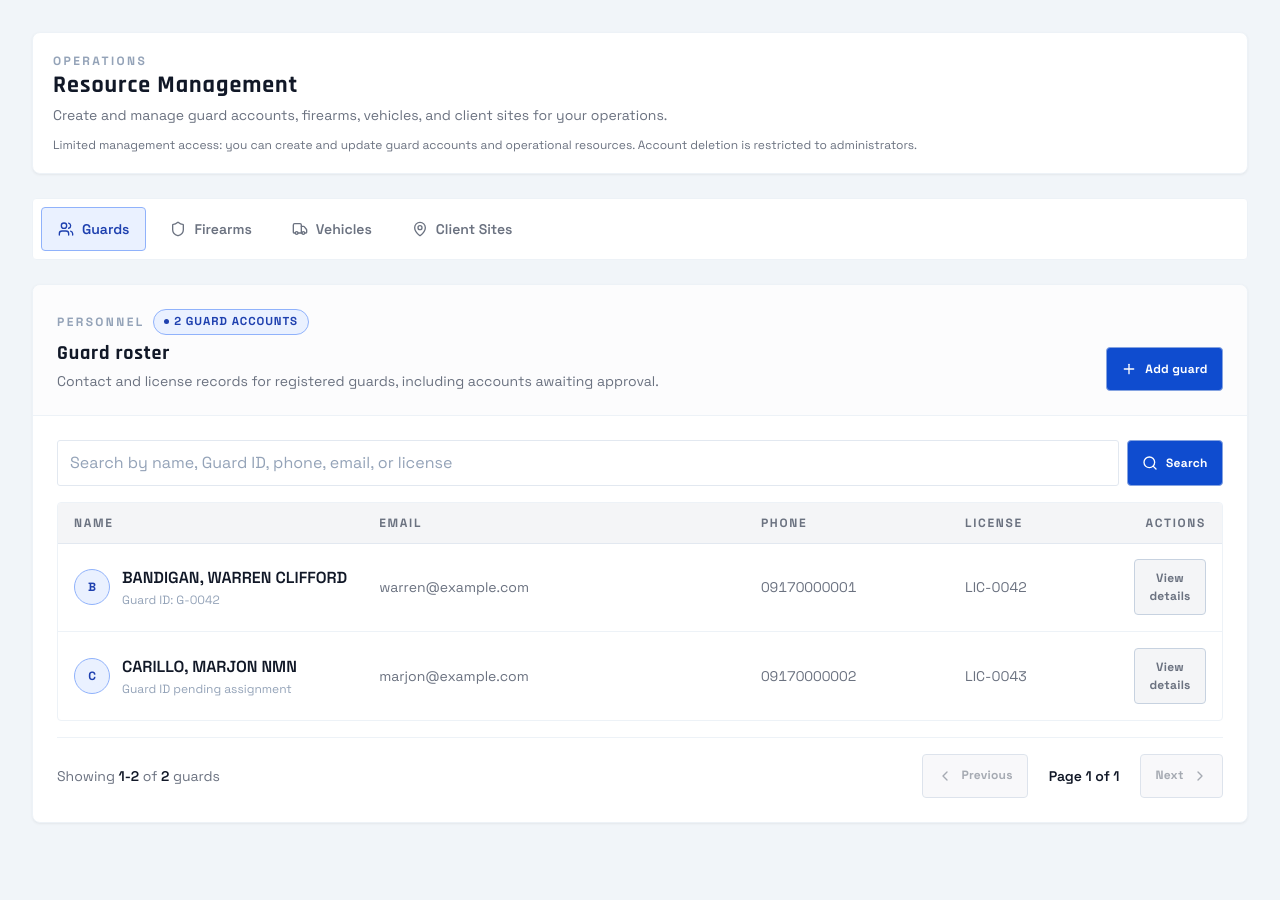
ResourceManagementPanel guard IDs › gives supervisors guard details without exposing account deletion
The width and height of the screenshot is (1280, 900).
Expected: the text "Limited management access:" is shown, [53, 137, 917, 153]
Click the button with aria-label "View details for BANDIGAN" at (1170, 587), box [1134, 559, 1206, 615]
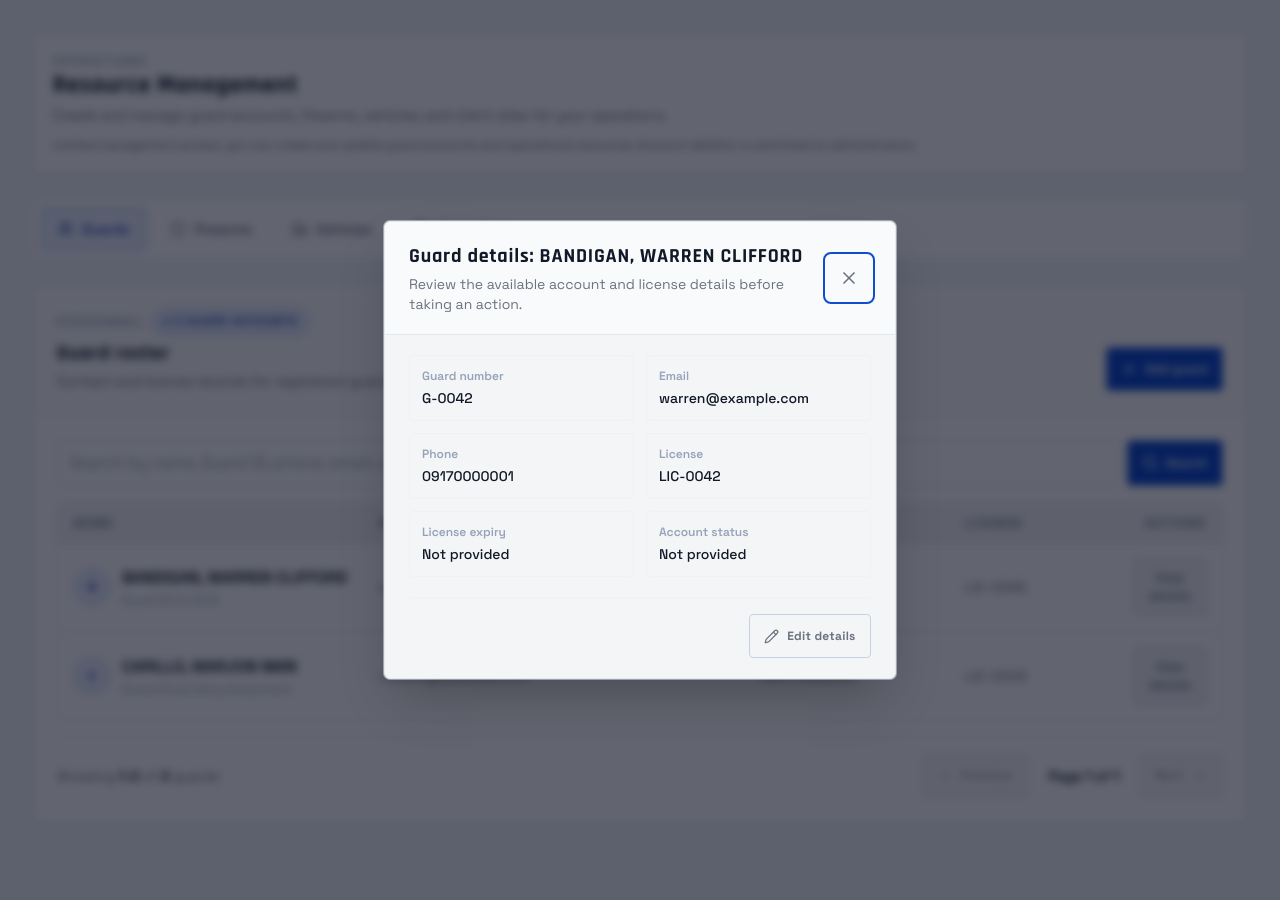
Now the button "Edit details" is shown, box [749, 614, 871, 658]
